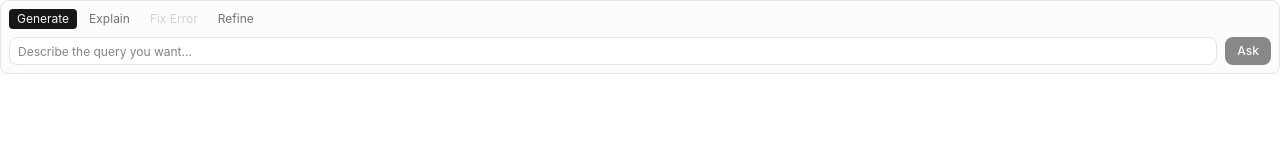
Test: AiPromptBar — SQL result actions › shows Insert and Replace buttons for SQL result
Type "get ids" into the field with placeholder "Describe the query you want…". click: (613, 51)
box: [9,37,1217,65]
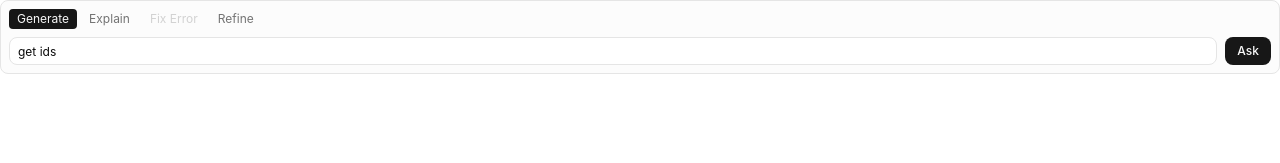
Click the button "Ask". click: (1248, 51)
box: [1225,37,1271,65]
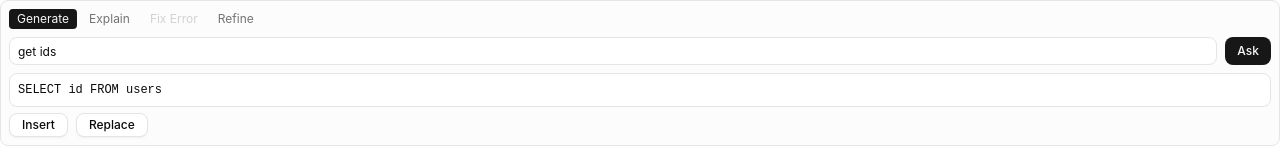
Now the text "SELECT id FROM users" is shown, box [9,73,1271,107]
Now the button "Insert" is shown, box [9,113,68,137]
Now the button "Replace" is shown, box [76,113,148,137]
